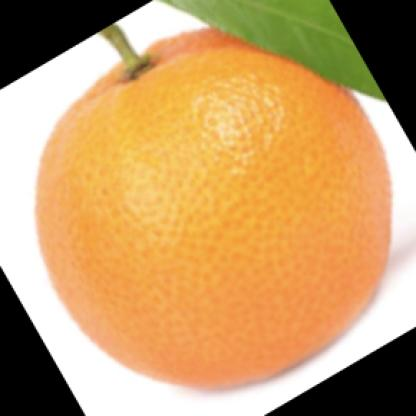fresh: (39, 28, 394, 393)
